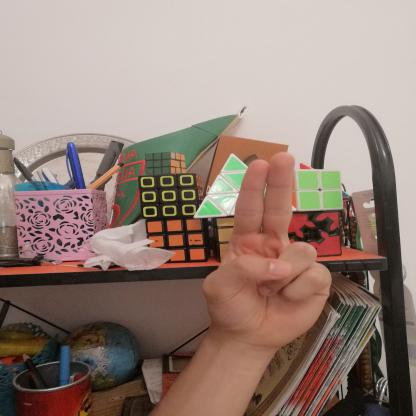TA: (186, 139, 340, 352)
